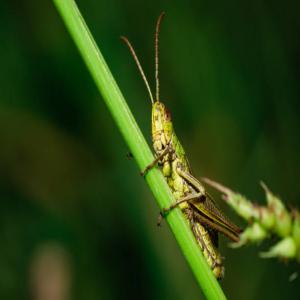locust: (126, 24, 244, 300)
